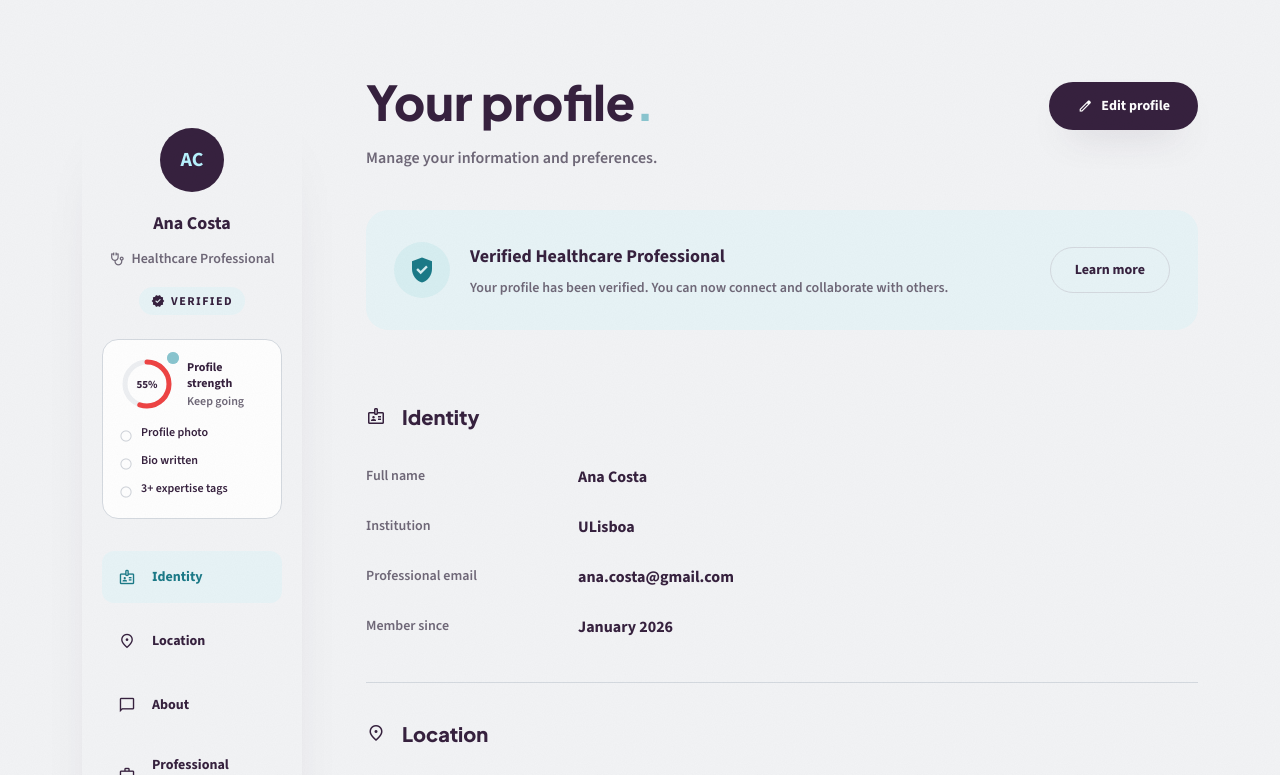
Scenario: ProfilePage › keeps a save button within reach at the bottom of the form while editing
The width and height of the screenshot is (1280, 775).
Click the button "Edit profile": x=1124, y=106 [1049,82,1198,130]
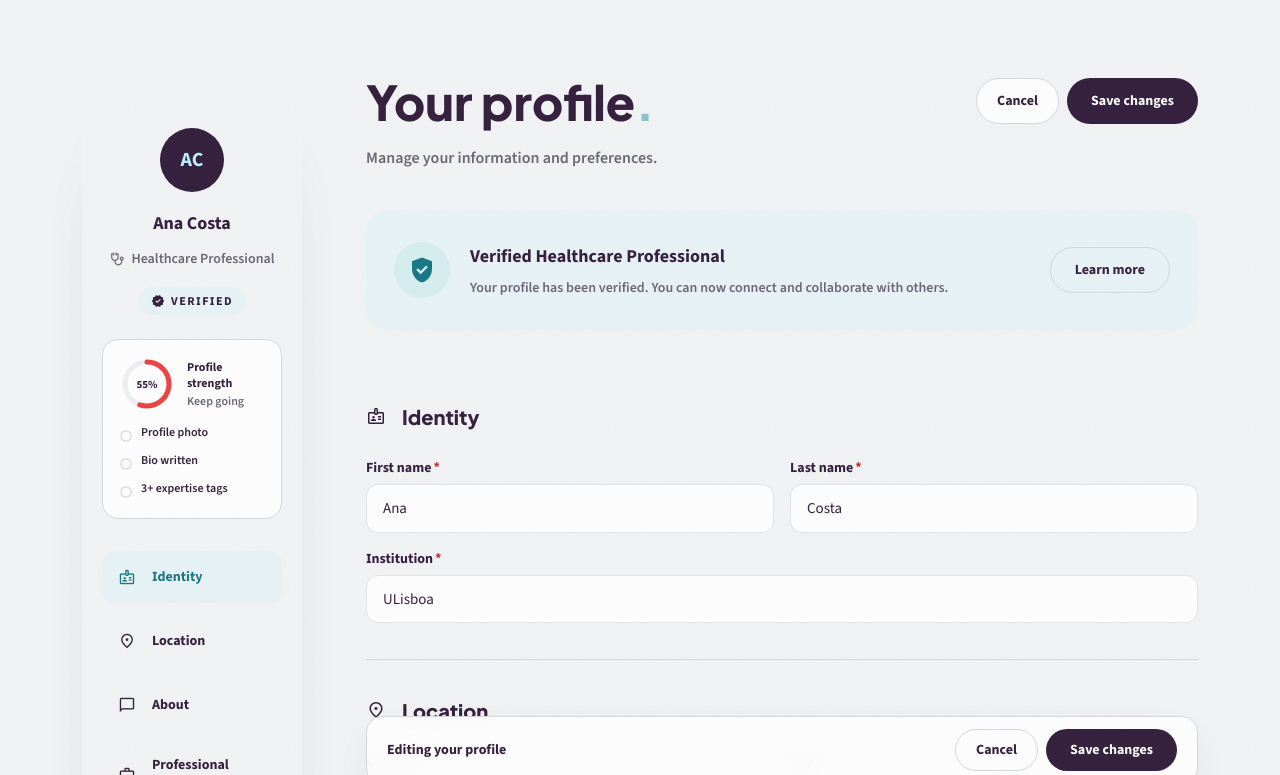
expect the button "Save changes" in the row of "Editing your profile" is shown: met, box [1046,729,1177,771]
